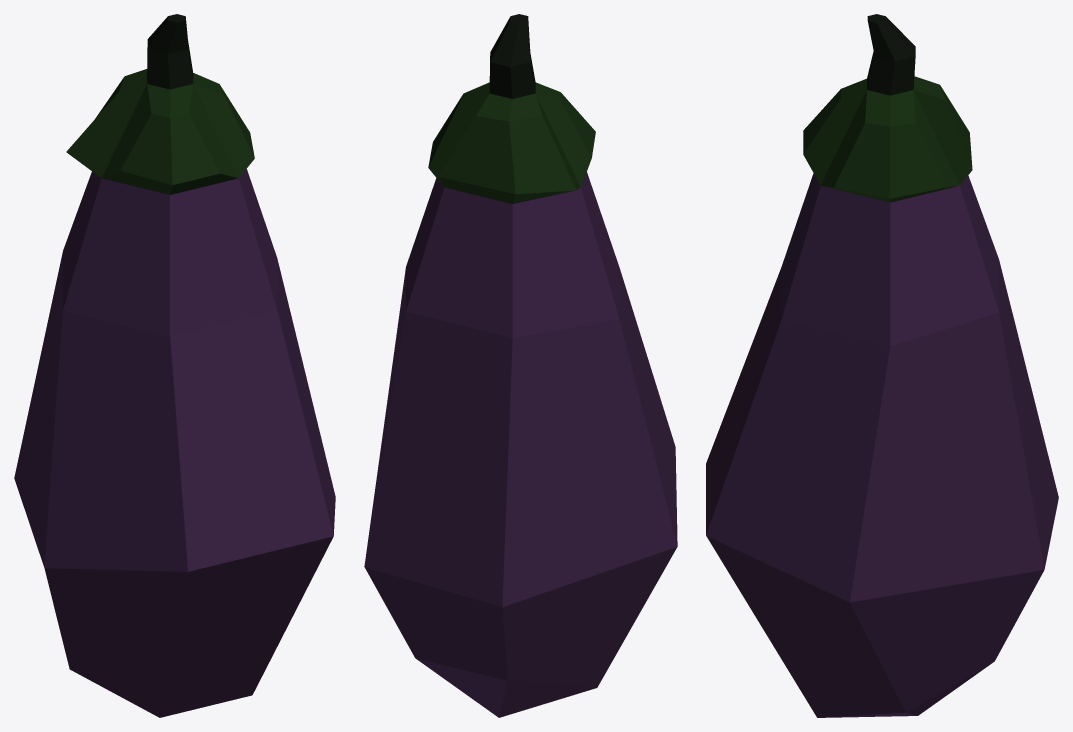
3 views of the same model, side by side, from view 1: azimuth 30°, elevation 25°; view 2: azimuth 150°, elevation 25°; view 3: azimuth 270°, elevation 25° (orthographic).
Visible parts, largest first — view 1: 茄子_pCylinder5; view 2: 茄子_pCylinder5; view 3: 茄子_pCylinder5.
Part boxes in pixels (x1,y1,x2,y2): 茄子_pCylinder5: [14, 14, 335, 717]; 茄子_pCylinder5: [364, 14, 677, 717]; 茄子_pCylinder5: [706, 14, 1058, 717].
Bounding box in the file's own units: 2.8 × 2.9 × 6.32.
